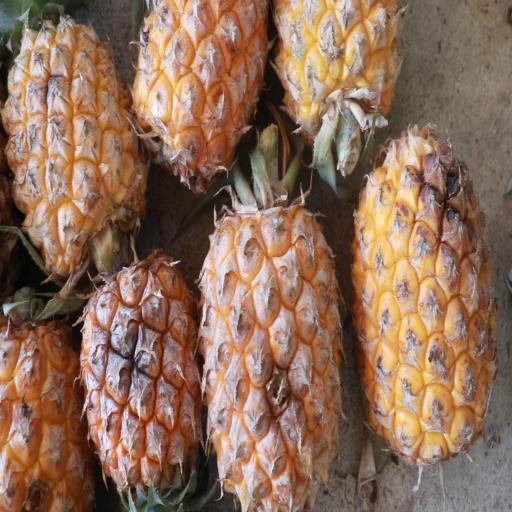Pineapple - v8 v1: (195, 149, 347, 512), (348, 127, 500, 467), (2, 0, 150, 290), (83, 245, 208, 512), (130, 0, 272, 189), (272, 0, 408, 165), (0, 292, 88, 509)
